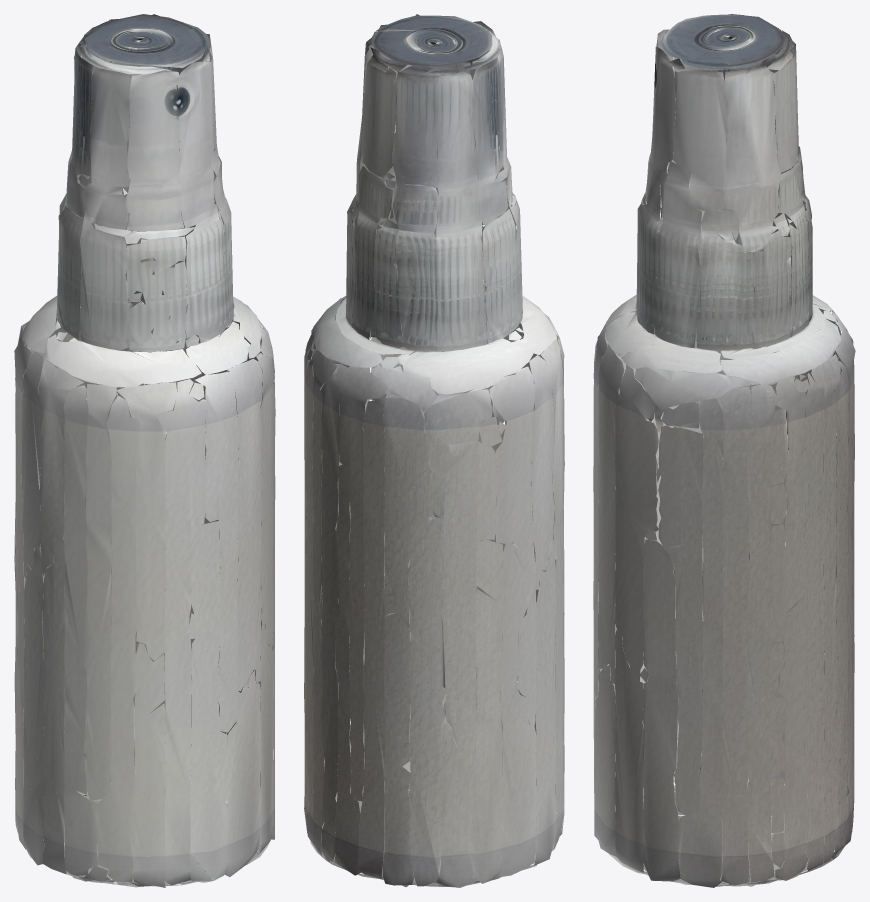
Rendered from P_TickSpray_h22.fbx.
The picture shows the model from 3 angles, left to right: view 1: azimuth 30°, elevation 25°; view 2: azimuth 150°, elevation 25°; view 3: azimuth 270°, elevation 25°; orthographic projection.
Visible parts, largest first — view 1: surface_7; view 2: surface_7; view 3: surface_7.
Part boxes in pixels (left/top/right/bottom): surface_7: left=14, top=14, right=275, bottom=887; surface_7: left=304, top=14, right=564, bottom=887; surface_7: left=593, top=14, right=855, bottom=887.
Bounding box in the file's own units: 0.2965 × 1 × 0.2967.
1 material, 1 textured.
